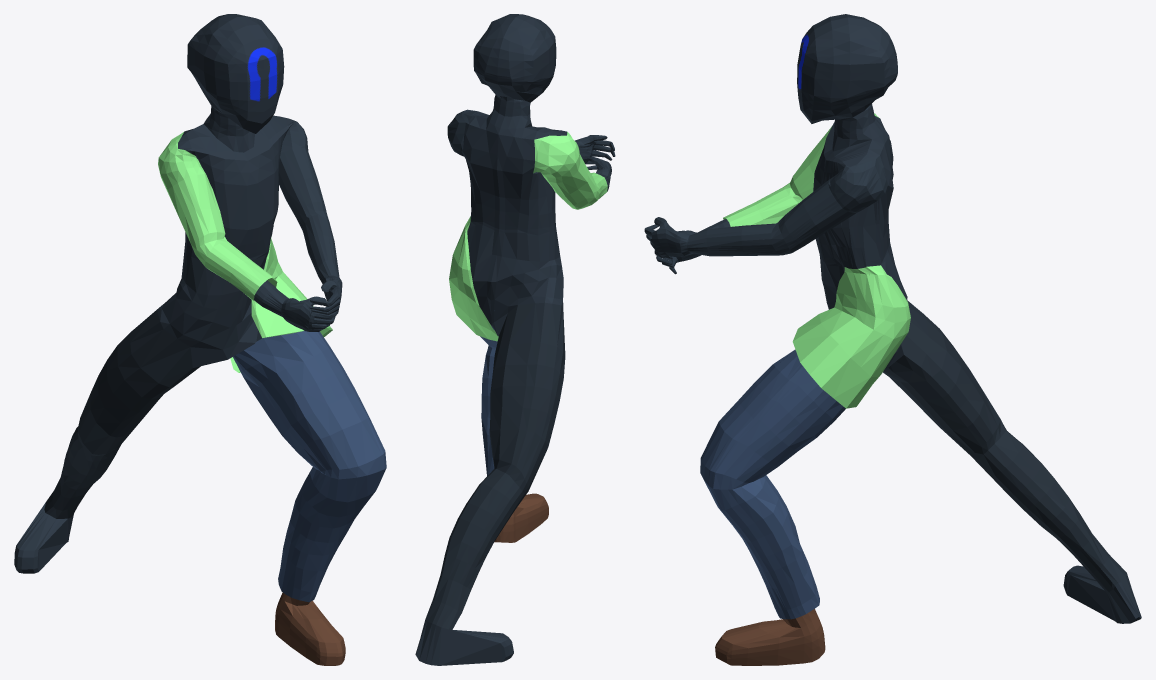
Rendered from Mar_WB_000016.obj.
3 views of the same model, side by side, from view 1: azimuth 30°, elevation 25°; view 2: azimuth 150°, elevation 25°; view 3: azimuth 270°, elevation 25° (orthographic). The views are drawn at different scales.
Parts seen in each view (by area): view 1: Cube.000_Cube.001; view 2: Cube.000_Cube.001; view 3: Cube.000_Cube.001.
Part boxes in pixels (x1,y1,x2,y2): Cube.000_Cube.001: (14, 14, 386, 665); Cube.000_Cube.001: (415, 14, 615, 665); Cube.000_Cube.001: (644, 14, 1141, 665).
Size of the model in its own units: 1.15 by 3.48 by 2.51.
